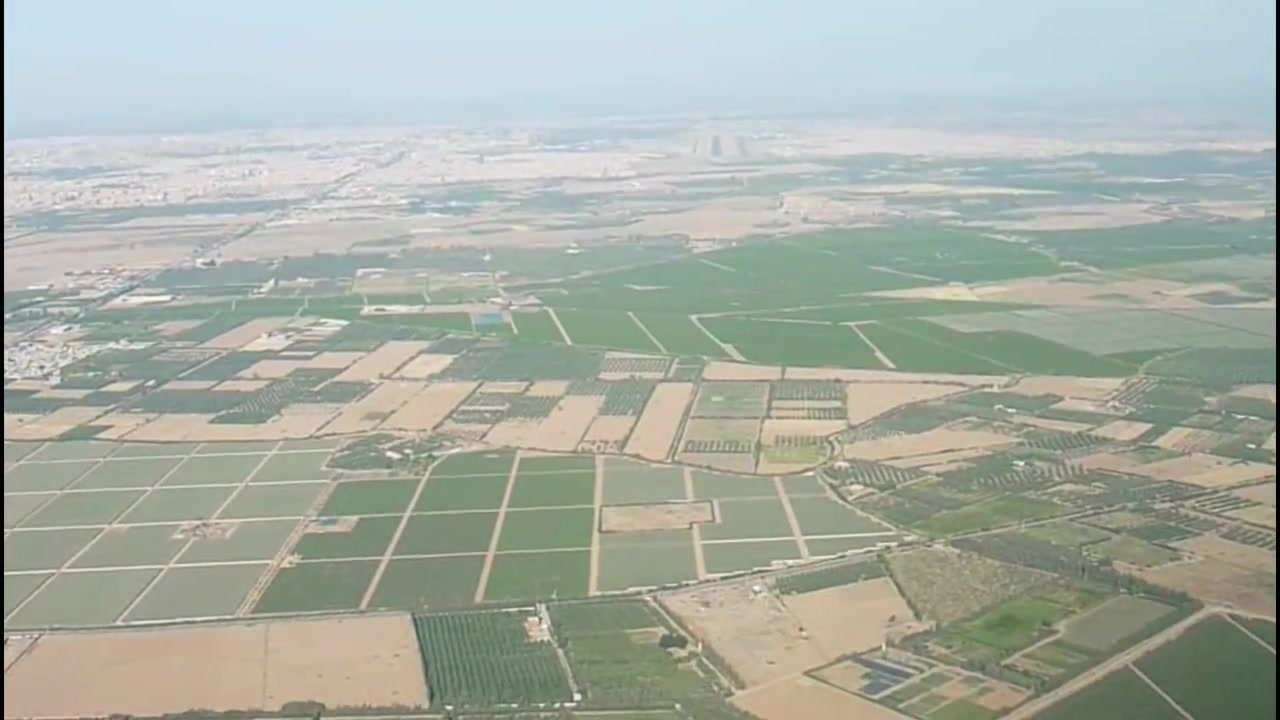runway: (709, 135, 724, 159)
